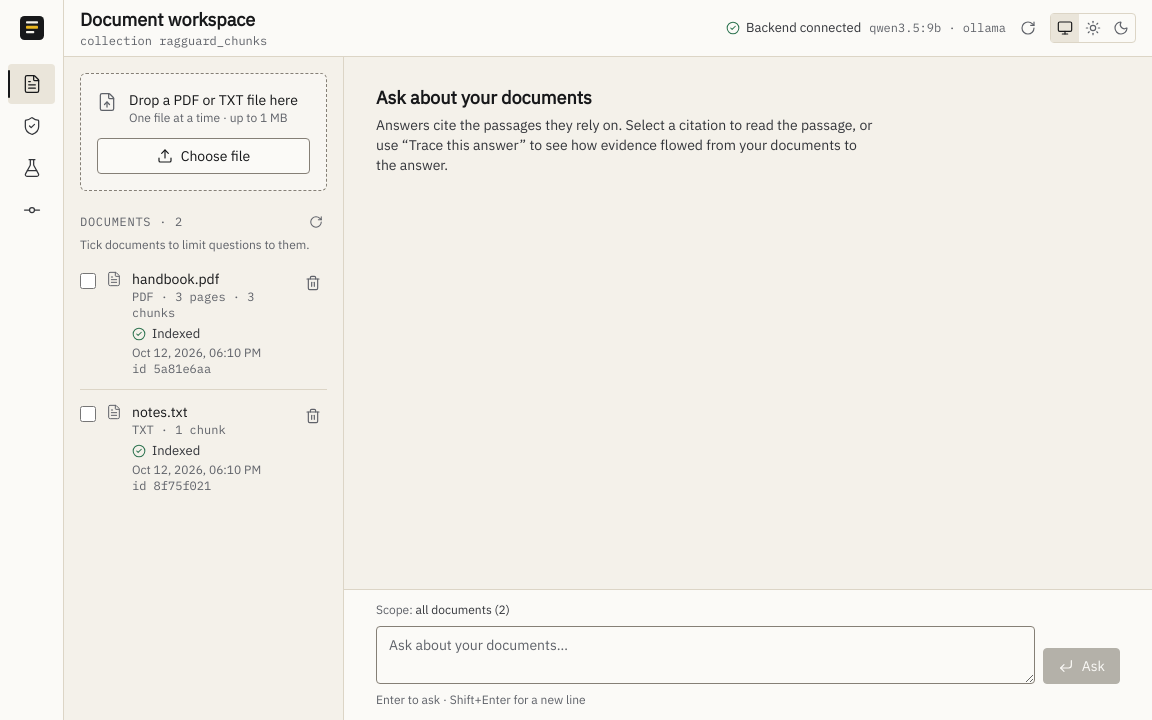
Test case: documents › confirms before deleting, then refreshes the list from the server
Click the button named "Remove handbook.pdf".
click(313, 283)  # box x1=299 y1=269 x2=327 y2=297
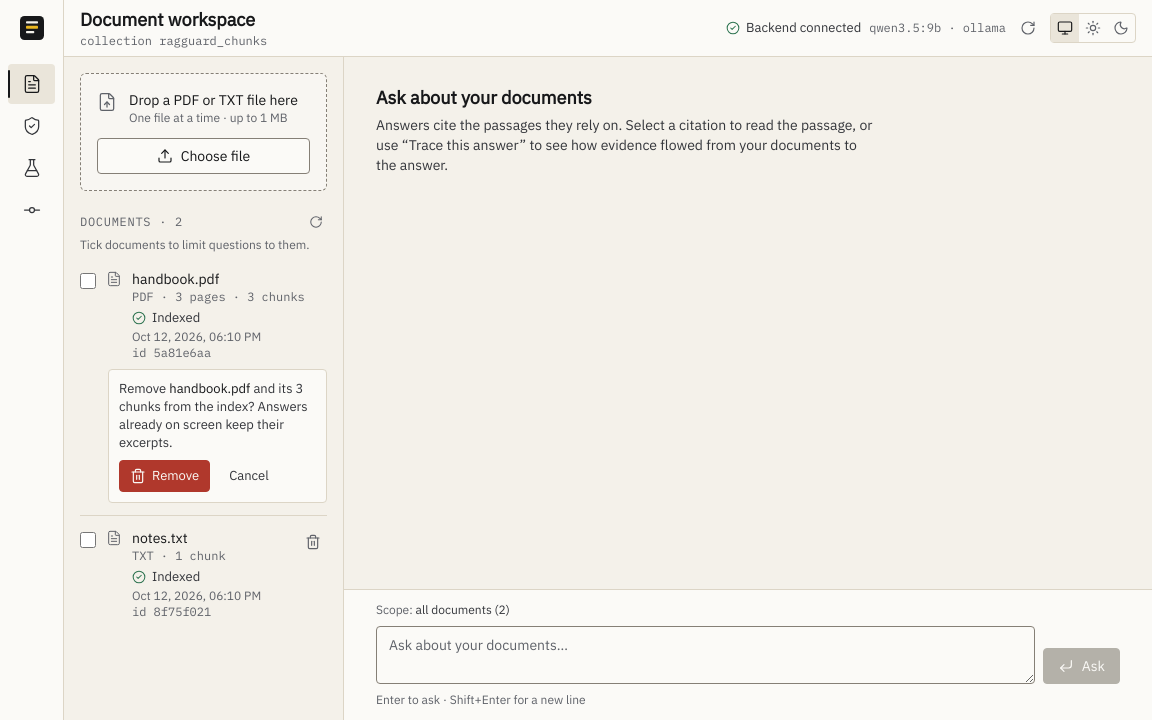
Now the element named "Confirm removal of handbook.pdf" shows "3 chunks", box x1=119 y1=380 x2=303 y2=415
Click the button "Remove".
click(165, 476)  # box x1=119 y1=460 x2=210 y2=492
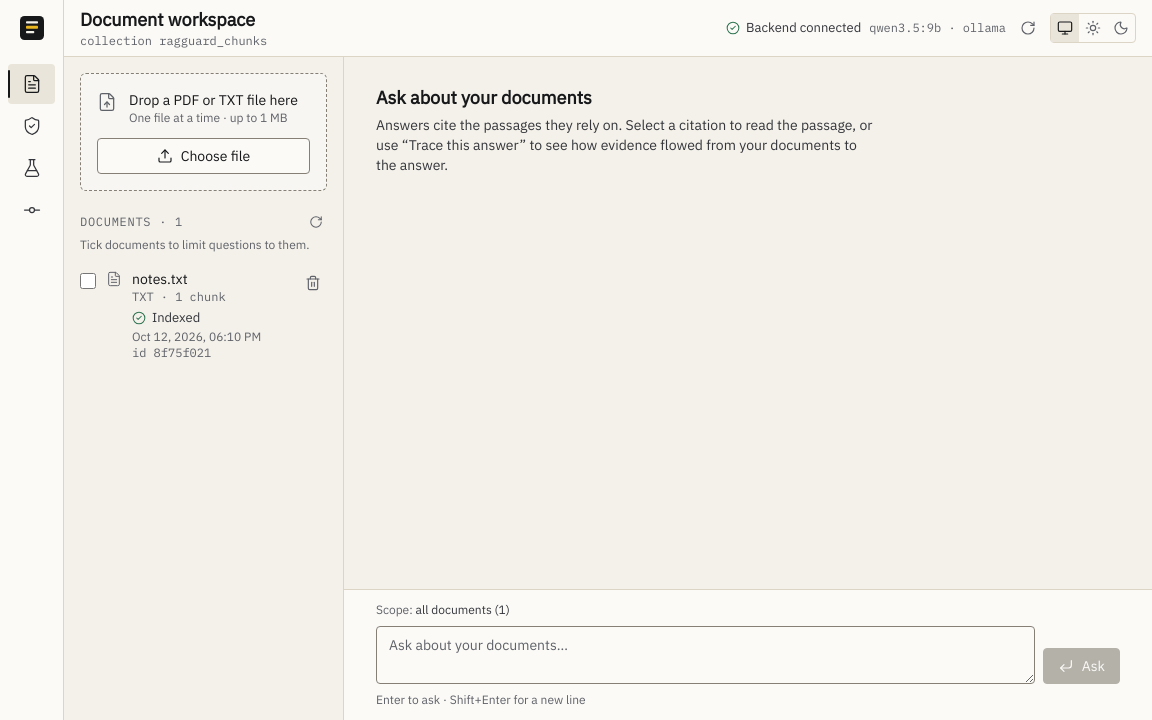
Expected: the text "notes.txt" is shown, x1=132 y1=270 x2=188 y2=288
Now the text "handbook.pdf" is gone
